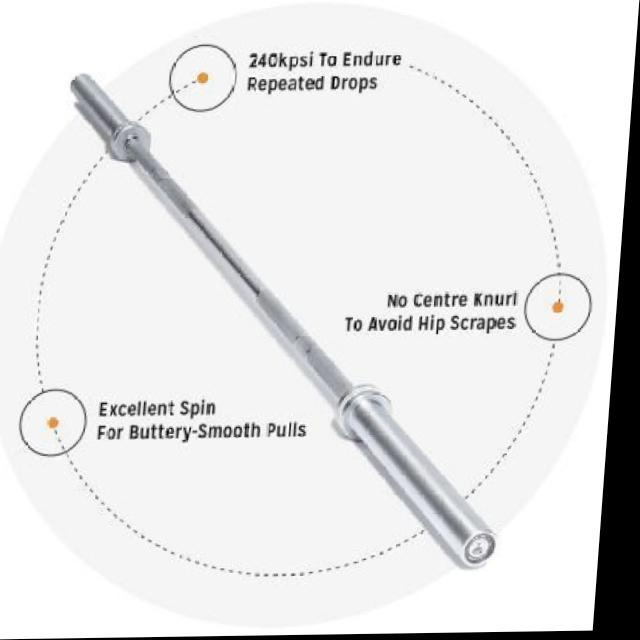barbell: (331, 377, 524, 580)
